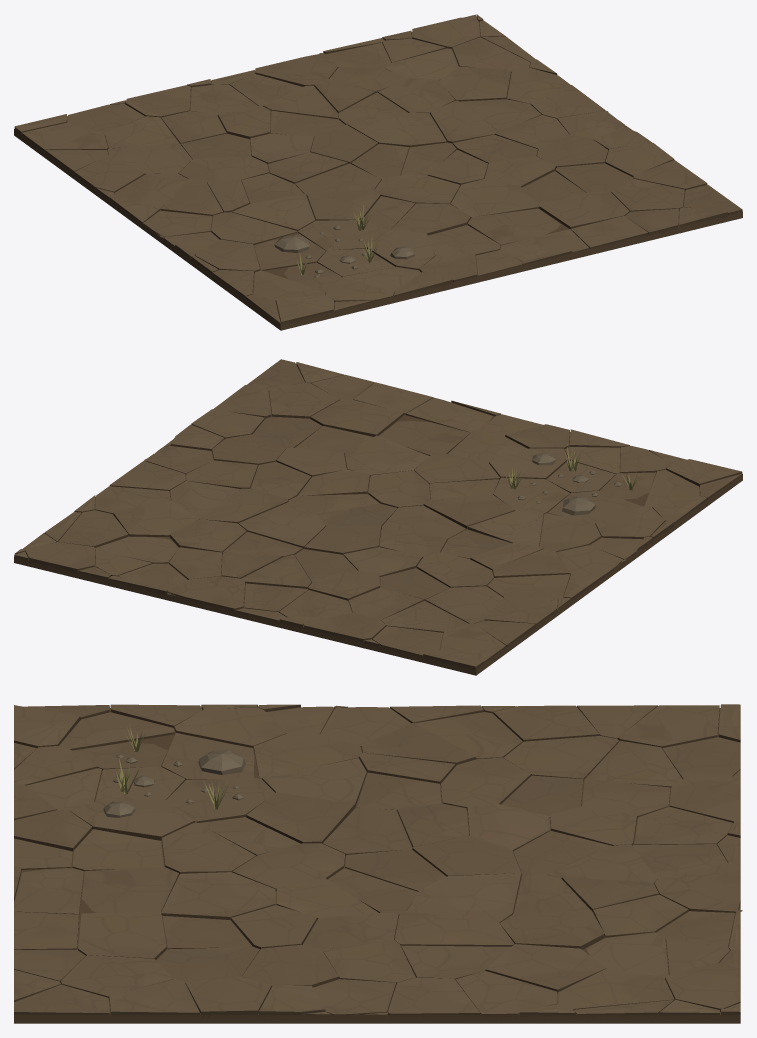
The model's file is 裂纹泥地_低模.glb.
The picture shows the model from 3 angles, top to bottom: view 1: azimuth 30°, elevation 25°; view 2: azimuth 150°, elevation 25°; view 3: azimuth 270°, elevation 25°; orthographic projection. The views are drawn at different scales.
Parts seen in each view (by area): view 1: TD-td_plate_c, TD-td_plate_a, TD-td_plate_b, TD-earth_dark, TD-td_rock; view 2: TD-td_plate_c, TD-td_plate_a, TD-td_plate_b, TD-earth_dark, TD-td_rock; view 3: TD-td_plate_c, TD-td_plate_a, TD-td_plate_b, TD-earth_dark, TD-td_rock, TD-td_dry_grass.
Part boxes in pixels (x1,y1,x2,y2): TD-td_plate_c: (21, 20, 727, 325); TD-td_plate_a: (44, 14, 742, 323); TD-td_plate_b: (14, 14, 674, 270); TD-earth_dark: (14, 17, 742, 330); TD-td_rock: (274, 225, 415, 277); TD-td_plate_c: (23, 362, 742, 663); TD-td_plate_a: (14, 359, 742, 647); TD-td_plate_b: (14, 409, 652, 670); TD-earth_dark: (14, 392, 742, 675); TD-td_rock: (518, 453, 631, 515); TD-td_plate_c: (14, 704, 742, 1017); TD-td_plate_a: (14, 704, 740, 1017); TD-td_plate_b: (70, 704, 740, 1017); TD-earth_dark: (14, 708, 740, 1023); TD-td_rock: (103, 750, 245, 817); TD-td_dry_grass: (112, 726, 227, 809).
Size of the model in its own units: 8.04 by 0.5439 by 8.03.
Materials: 7 (3 with a texture image).
